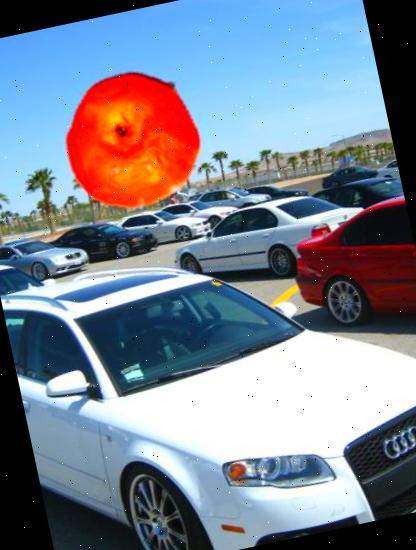Clementine: (50, 56, 218, 224)
